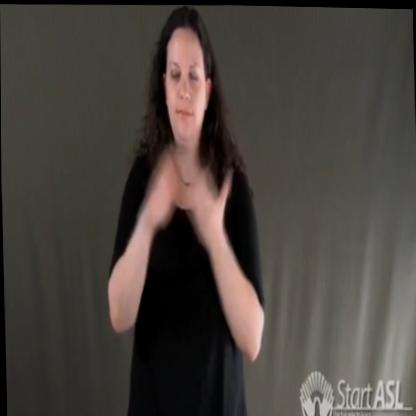NiceToMeetYou: (141, 136, 236, 255)
